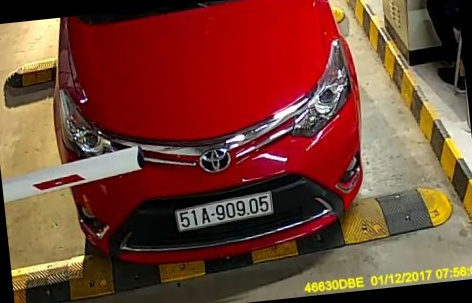plate: (174, 188, 278, 236)
